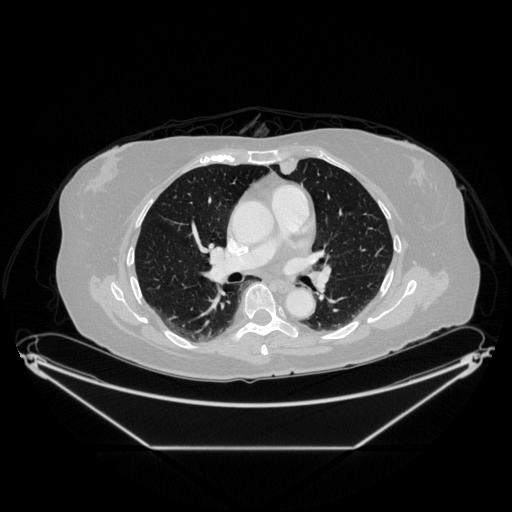nodule: (277, 156, 298, 177)
